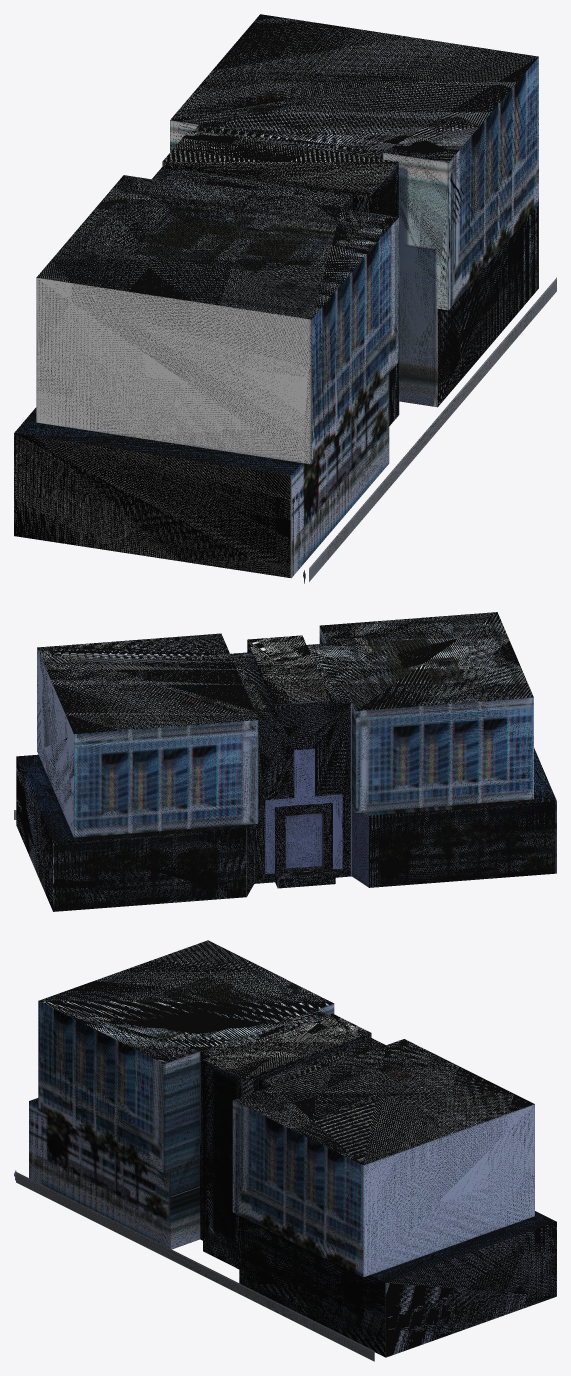
File: hopital_lenval.glb
3 renders of one model, top to bottom at view 1: azimuth 30°, elevation 25°; view 2: azimuth 150°, elevation 25°; view 3: azimuth 270°, elevation 25°, orthographic. The views are drawn at different scales.
Visible parts, largest first — view 1: Hopital Lenval; view 2: Hopital Lenval; view 3: Hopital Lenval.
Boxes of the visible parts, x1,y1,x2,y2 form: Hopital Lenval: [14, 14, 556, 583]; Hopital Lenval: [14, 612, 556, 911]; Hopital Lenval: [14, 940, 556, 1361].
Size of the model in its own units: 104 by 38.01 by 97.51.
1 material, 1 textured.
